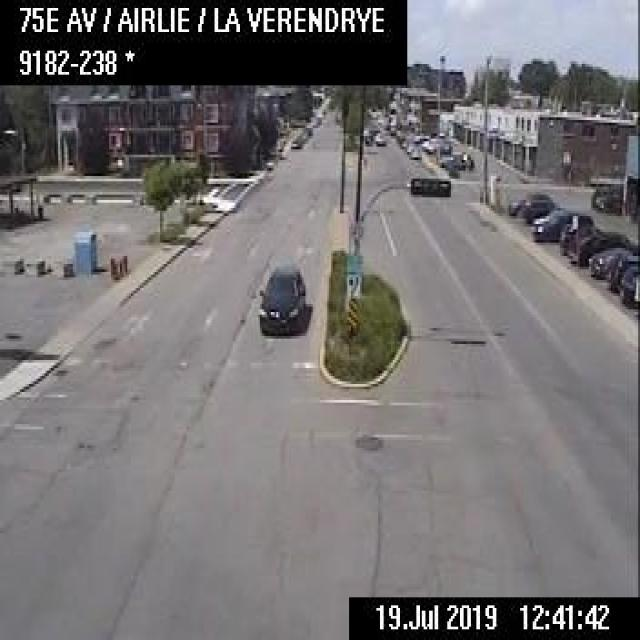construction: (120, 252, 127, 274), (108, 254, 114, 277), (115, 256, 121, 277)
vehicle: (256, 262, 306, 336), (530, 204, 594, 243), (576, 230, 636, 264), (586, 246, 637, 279), (508, 191, 556, 215), (617, 264, 637, 307), (437, 149, 471, 169), (422, 136, 451, 152), (407, 143, 421, 160), (287, 134, 300, 150), (373, 131, 386, 144)
